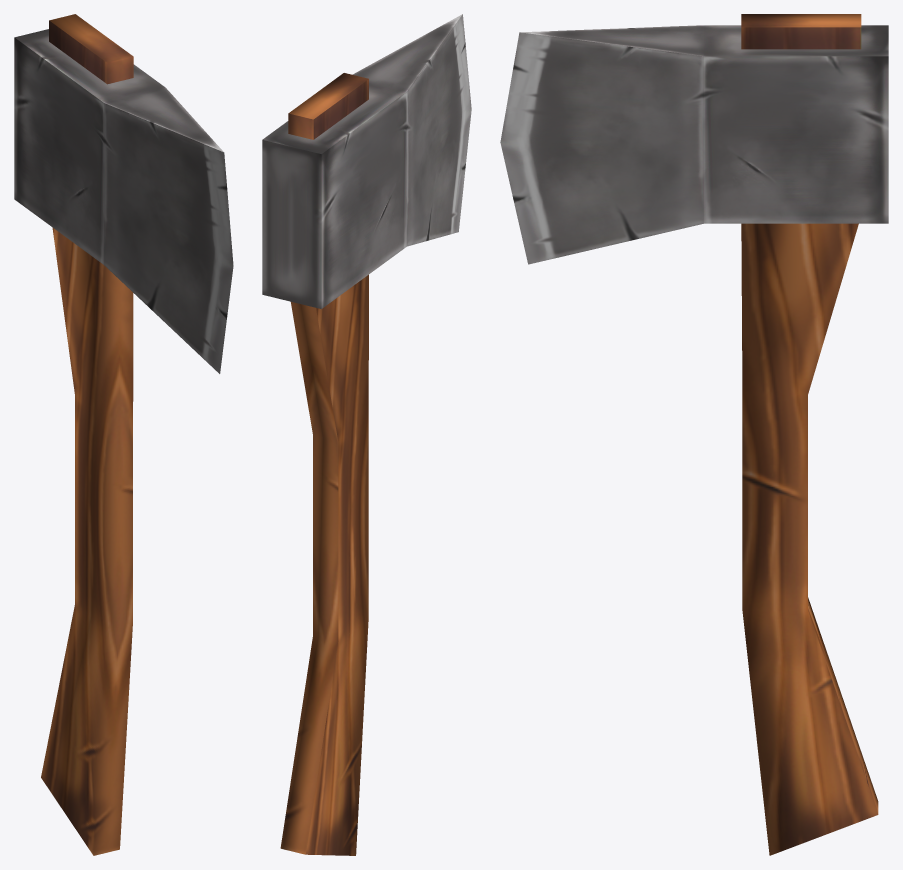
File: axe.FBX
3 renders of one model, left to right at view 1: azimuth 30°, elevation 25°; view 2: azimuth 150°, elevation 25°; view 3: azimuth 270°, elevation 25°, orthographic. The views are drawn at different scales.
Visible parts, largest first — view 1: axe; view 2: axe; view 3: axe.
Boxes of the visible parts, bbox=[...] form: axe: bbox=[14, 14, 233, 855]; axe: bbox=[262, 14, 471, 855]; axe: bbox=[500, 14, 888, 855].
Size of the model in its own units: 12 by 149 by 63.08.
